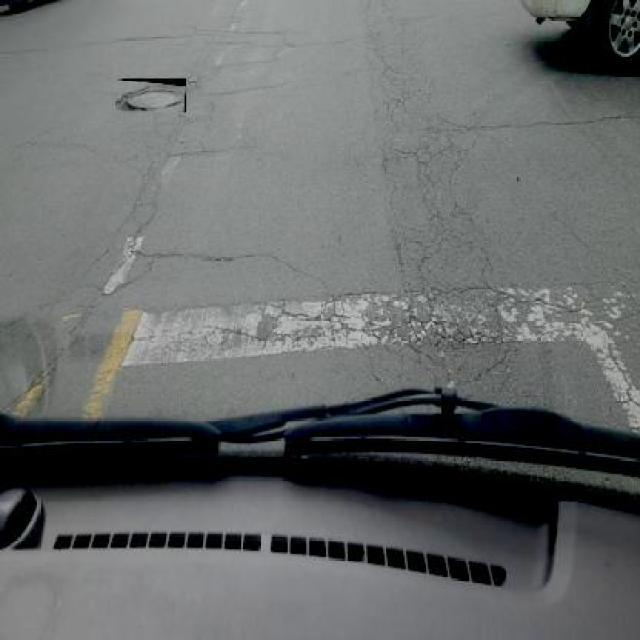Manhole: (116, 78, 187, 112)
